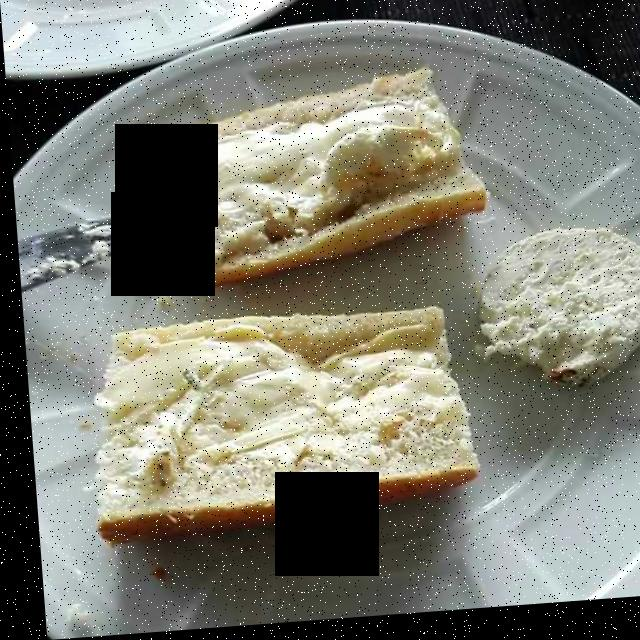bread-white: (88, 67, 481, 546)
goat-average-raw: (464, 229, 640, 406)
